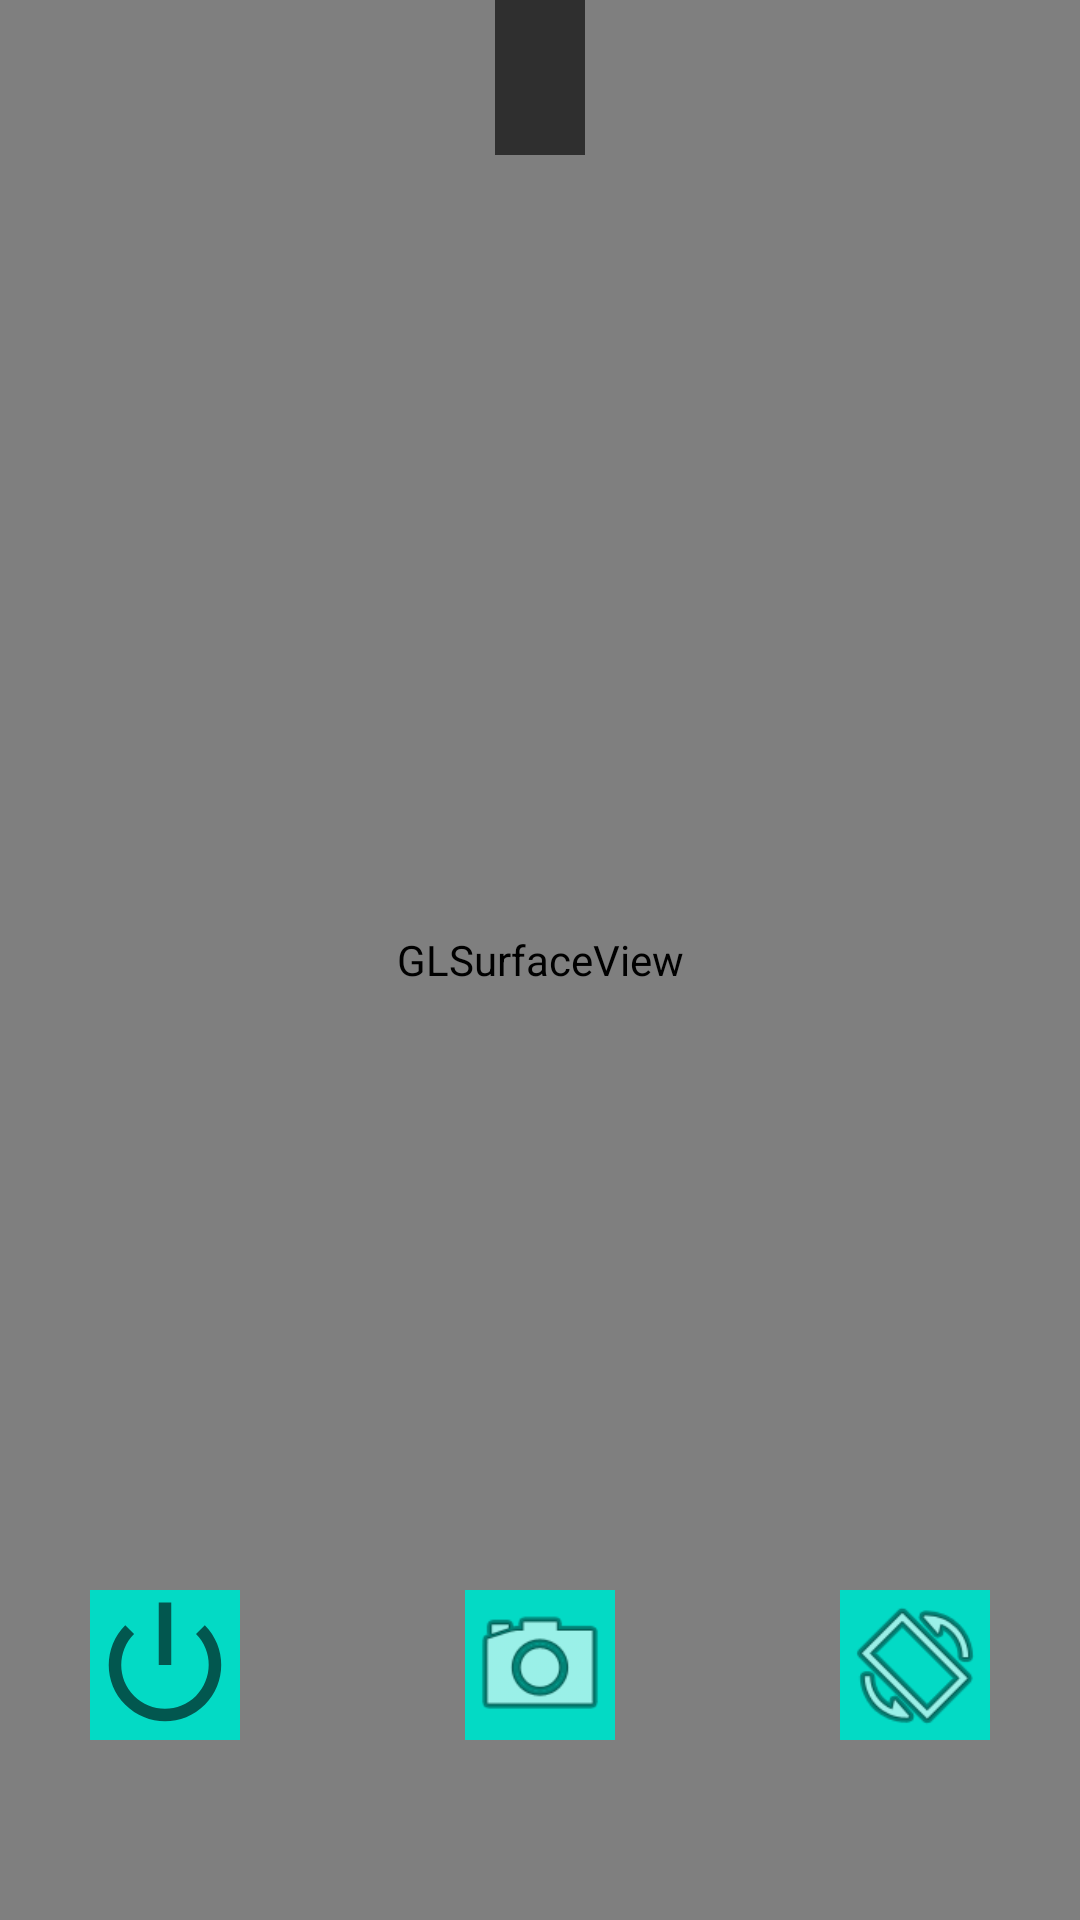

Screen size 1080 x 1920. Icon name, then its box in pixels as BBox(x1, y1, x2, y2):
always landscape portrait: BBox(840, 1590, 990, 1740)
camera: BBox(465, 1590, 615, 1740)
lock power off: BBox(90, 1590, 240, 1740)
